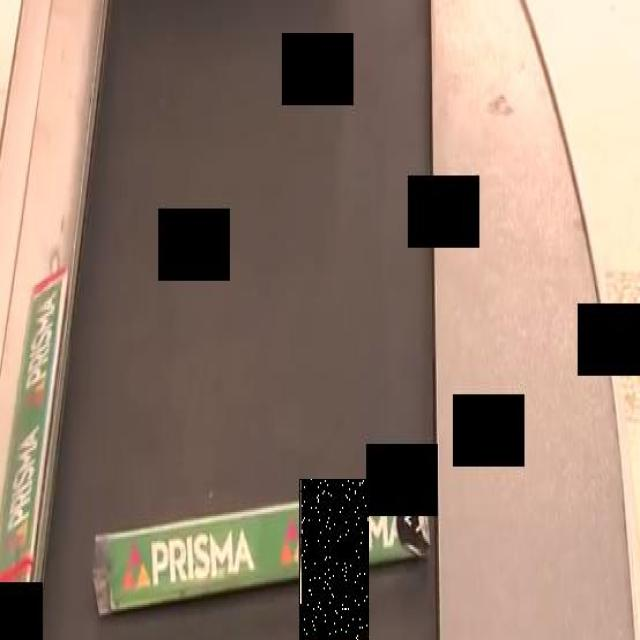beverage: (299, 479, 369, 640)
